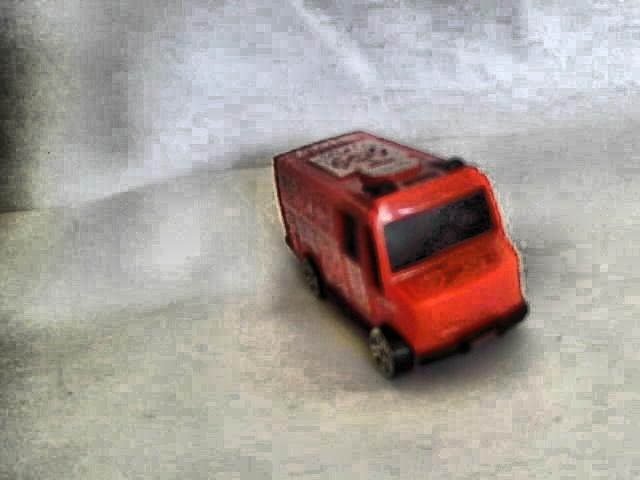fire_truck: (261, 117, 540, 385)
